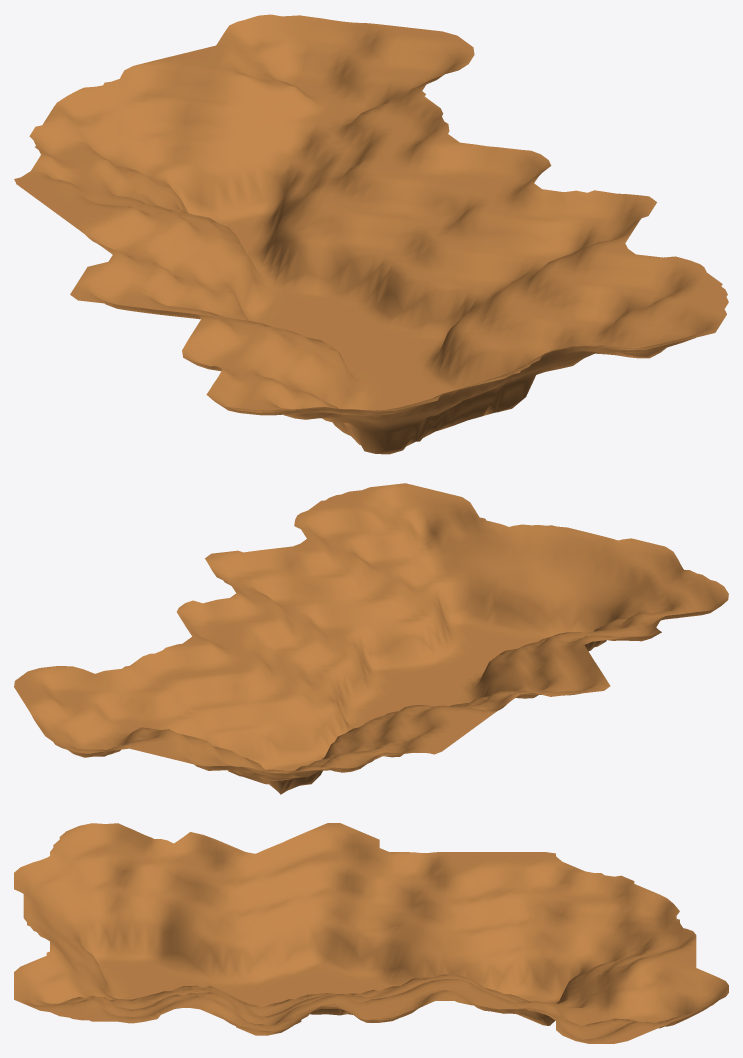
The model's file is terrain_crater.glb.
The picture shows the model from 3 angles, top to bottom: view 1: azimuth 30°, elevation 25°; view 2: azimuth 150°, elevation 25°; view 3: azimuth 270°, elevation 25°; orthographic projection. The views are drawn at different scales.
Parts seen in each view (by area): view 1: Grid; view 2: Grid; view 3: Grid.
Boxes of the visible parts, x1=… form: Grid: x1=14, y1=14, x2=728, y2=454; Grid: x1=14, y1=483, x2=728, y2=794; Grid: x1=14, y1=823, x2=728, y2=1043.
Size of the model in its own units: 380 by 58.2 by 520.
